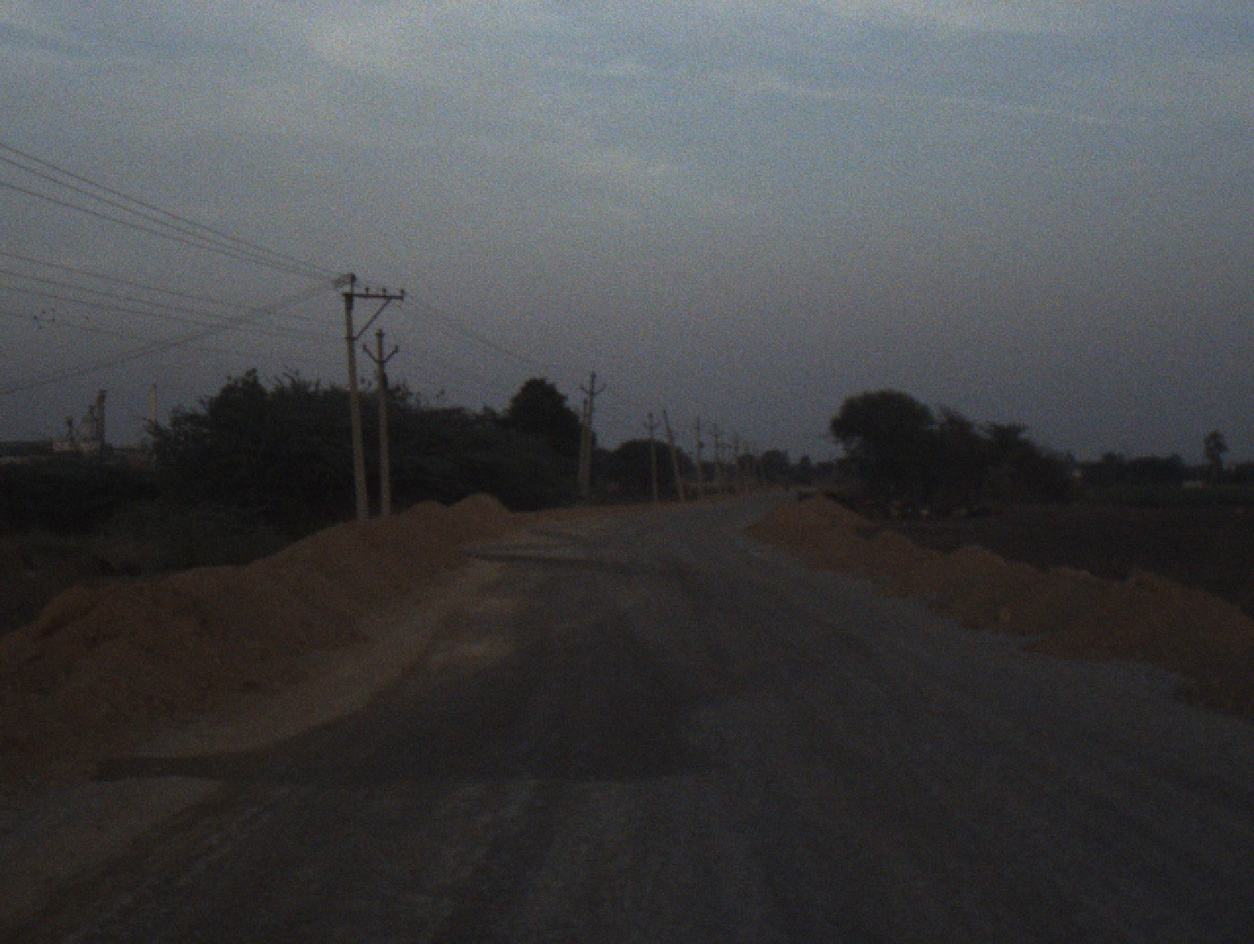animal: (929, 506, 970, 522), (880, 498, 914, 517), (843, 490, 869, 509)
